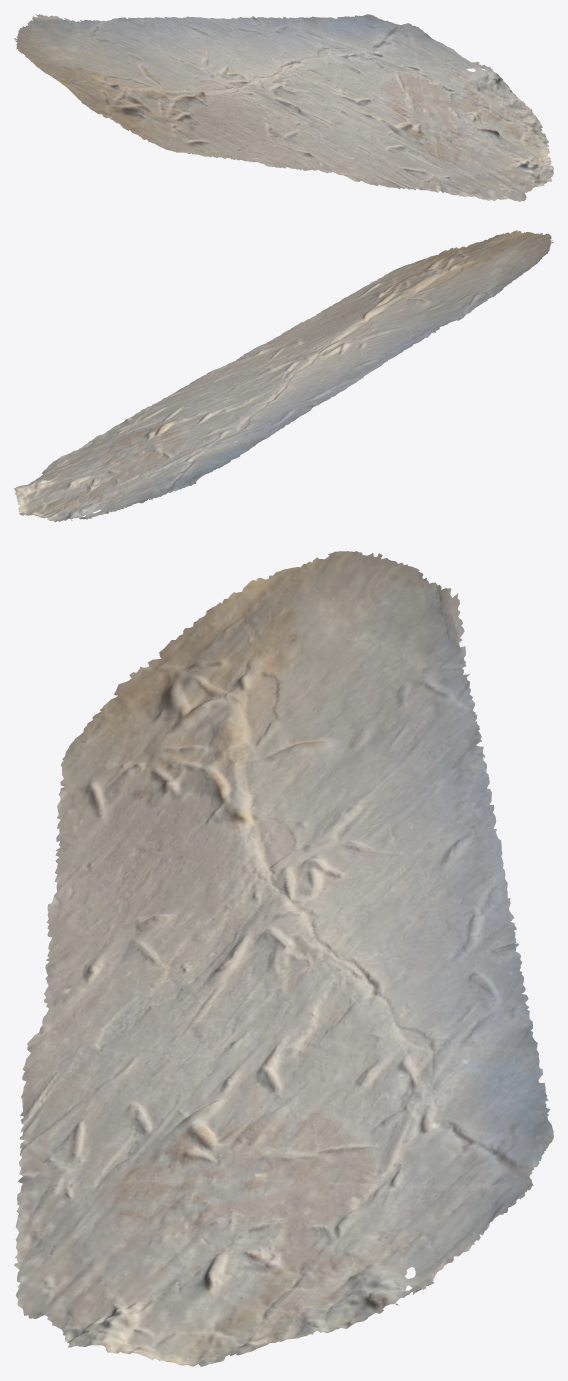
File: muestra_coleccion_ricardo-Avipeda-8643.glb
3 views of the same model, one above another, from view 1: azimuth 30°, elevation 25°; view 2: azimuth 210°, elevation 25°; view 3: azimuth 270°, elevation 25° (orthographic). The views are drawn at different scales.
Visible parts, largest first — view 1: Geode; view 2: Geode; view 3: Geode.
Part boxes in pixels (left/top/right/bottom): Geode: left=14, top=14, right=553, bottom=201; Geode: left=14, top=230, right=553, bottom=522; Geode: left=14, top=551, right=553, bottom=1366.
Bounding box in the file's own units: 9.3 × 3.49 × 4.57.
Materials: 1 (1 with a texture image).
